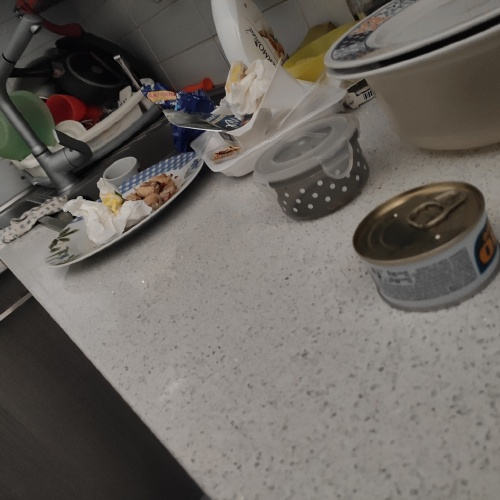tonno: (342, 179, 496, 316)
